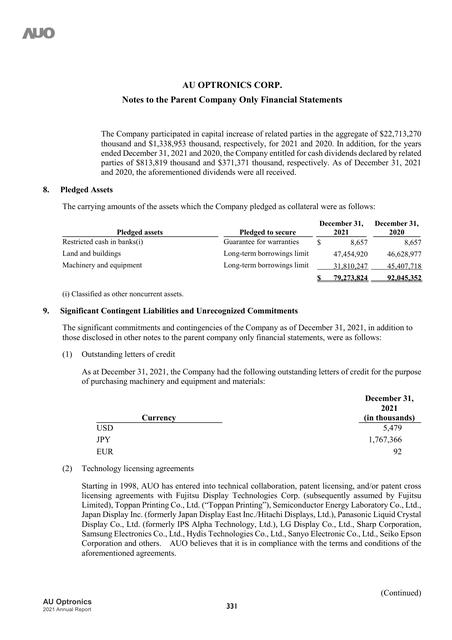box: (60, 219, 424, 285), (93, 394, 419, 459)
